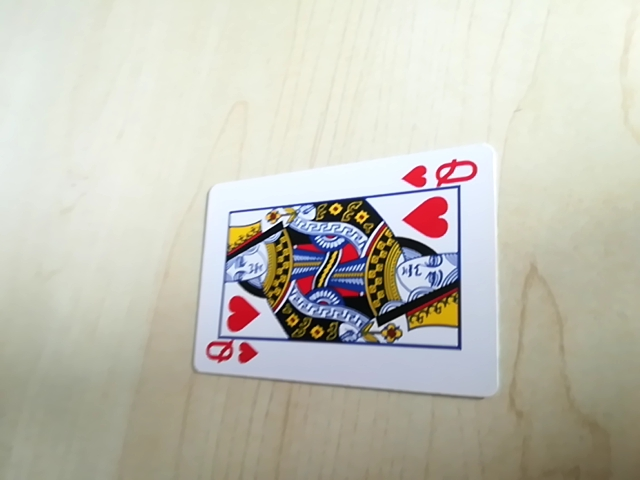hx q: (401, 155, 481, 194), (200, 336, 261, 369)
